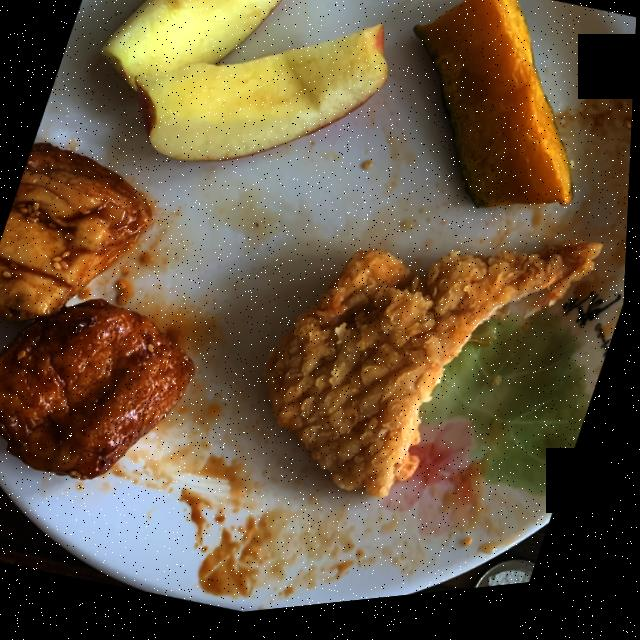apple -sliced-: (101, 0, 387, 166)
coin: (479, 571, 540, 599)
creamy tofu: (0, 143, 197, 481)
fried chicken cutlet: (267, 253, 603, 506)
pumpkin: (414, 0, 574, 218)
